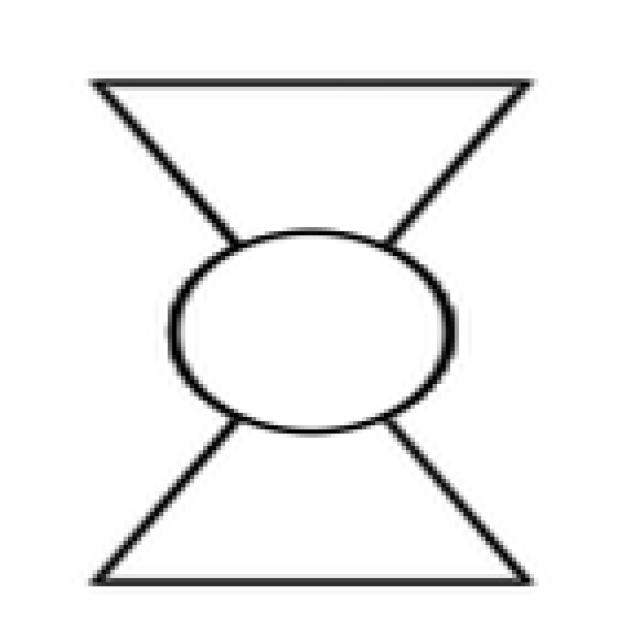ball valve: (92, 79, 535, 589)
